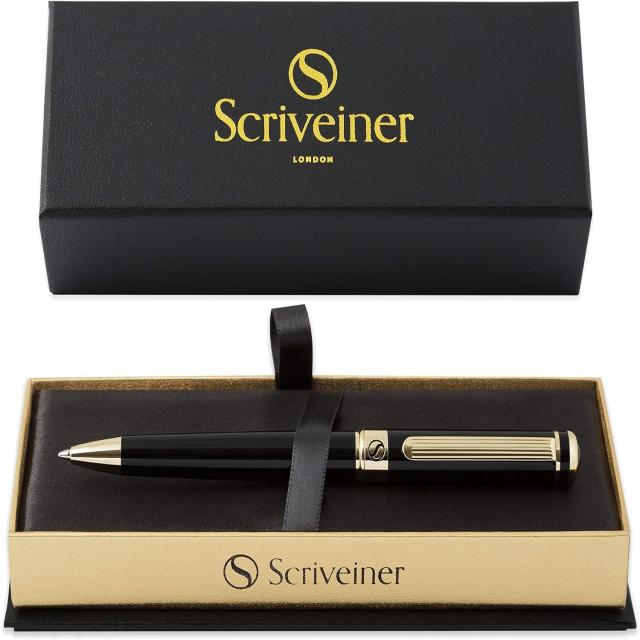pen: (49, 418, 587, 490)
